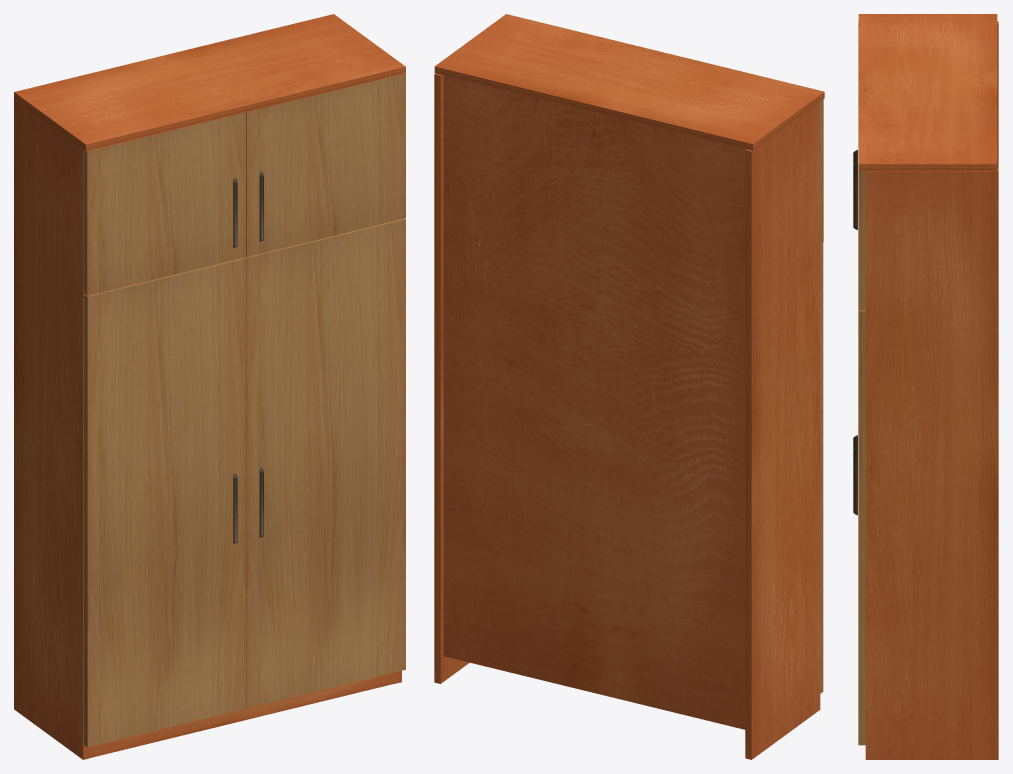
The model's file is sek1.FBX.
3 views of the same model, side by side, from view 1: azimuth 30°, elevation 25°; view 2: azimuth 150°, elevation 25°; view 3: azimuth 270°, elevation 25° (orthographic). The views are drawn at different scales.
Visible parts, largest first — view 1: Box019; view 2: Box019; view 3: Box019.
Boxes of the visible parts, x1,y1,x2,y2 form: Box019: (14, 14, 405, 759); Box019: (434, 14, 824, 759); Box019: (853, 14, 998, 759).
Size of the model in its own units: 51.13 by 94.41 by 20.89.
